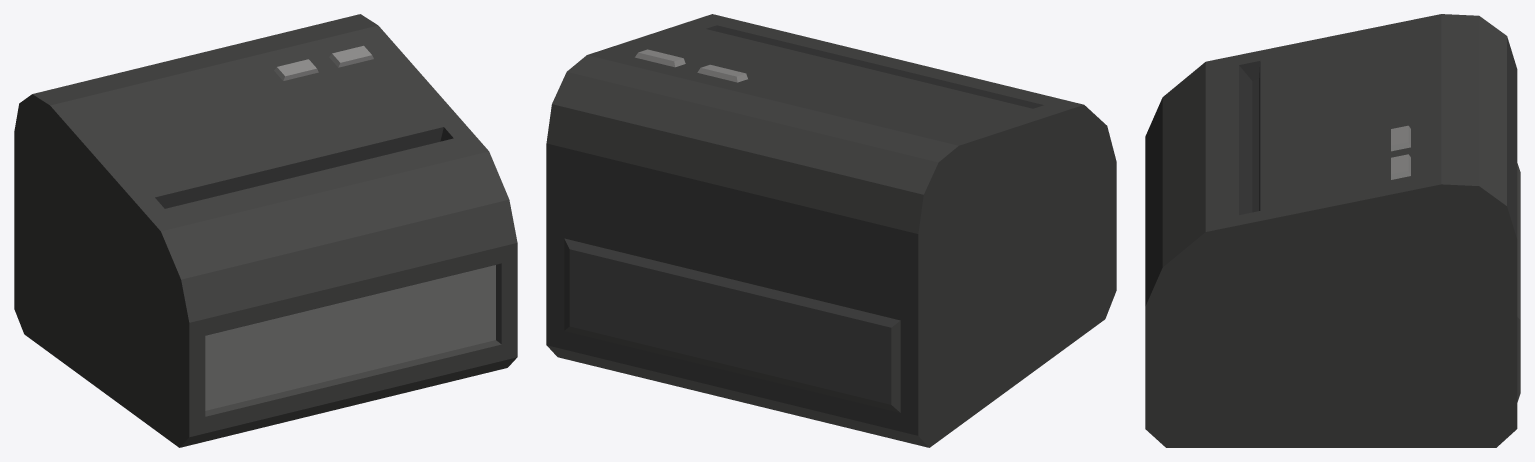
The model's file is SM_Props_Interior_Shop_CashRegister_ReceiptPrinter.fbx.
3 views of the same model, side by side, from view 1: azimuth 30°, elevation 25°; view 2: azimuth 150°, elevation 25°; view 3: azimuth 270°, elevation 25° (orthographic). The views are drawn at different scales.
Parts seen in each view (by area): view 1: SM_Props_Interior_Shop_CashRegister_ReceiptPrinter; view 2: SM_Props_Interior_Shop_CashRegister_ReceiptPrinter; view 3: SM_Props_Interior_Shop_CashRegister_ReceiptPrinter.
Part boxes in pixels (bbox=[...]): SM_Props_Interior_Shop_CashRegister_ReceiptPrinter: bbox=[14, 14, 517, 447]; SM_Props_Interior_Shop_CashRegister_ReceiptPrinter: bbox=[546, 14, 1116, 447]; SM_Props_Interior_Shop_CashRegister_ReceiptPrinter: bbox=[1145, 14, 1520, 447].
Size of the model in its own units: 15.58 by 11.24 by 14.51.
